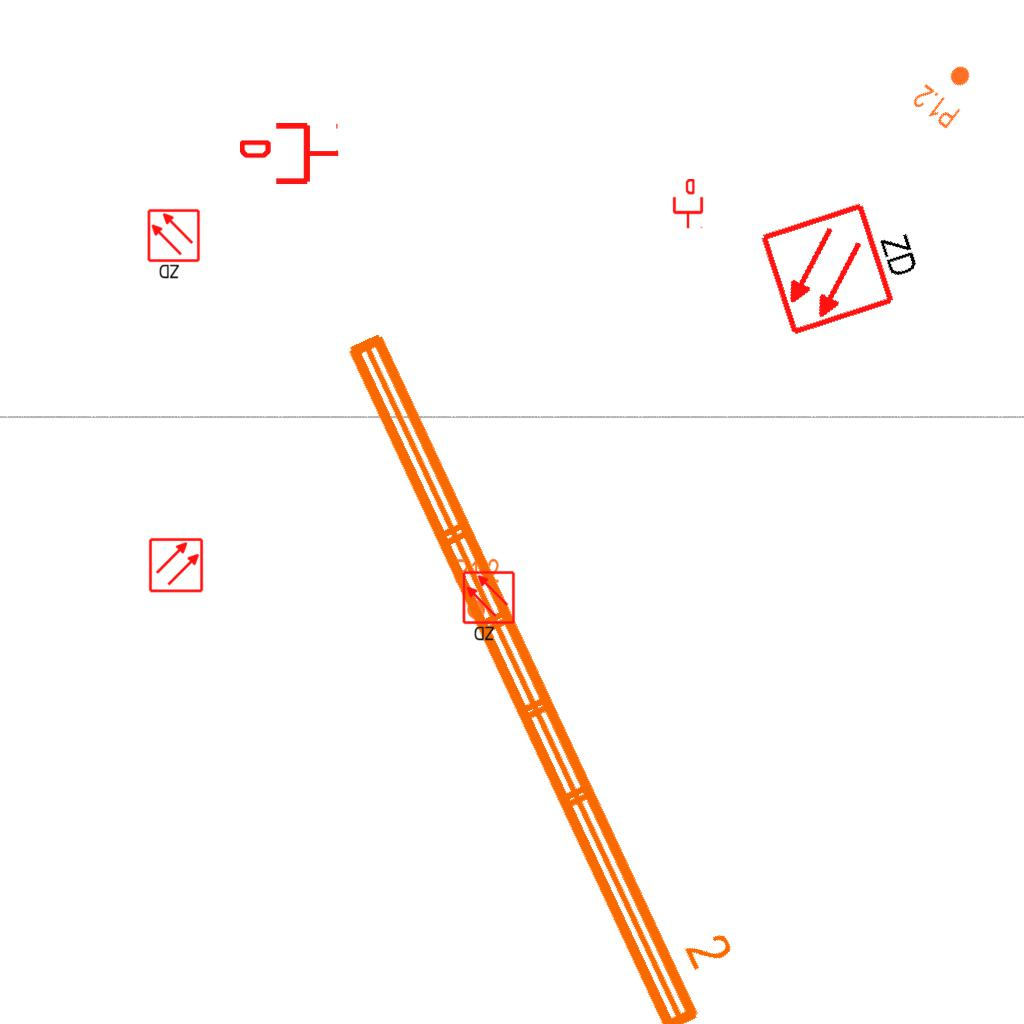Ambulanz_Pendelleuchte_LED: (331, 296, 761, 1024)
Datenanschluss_einfach: (240, 119, 340, 188), (671, 179, 705, 229)
Downlight_LED_Einbauleuchten_Flur: (909, 52, 985, 132), (454, 557, 500, 621)
RMO_Rauchmelder_optischer: (148, 537, 204, 593)
ZD_Melder_in_Zwischendecke_mit_Revisionsoeffnung_mind_40_x_40_cm: (756, 184, 934, 339), (146, 208, 203, 282), (461, 570, 518, 644)
